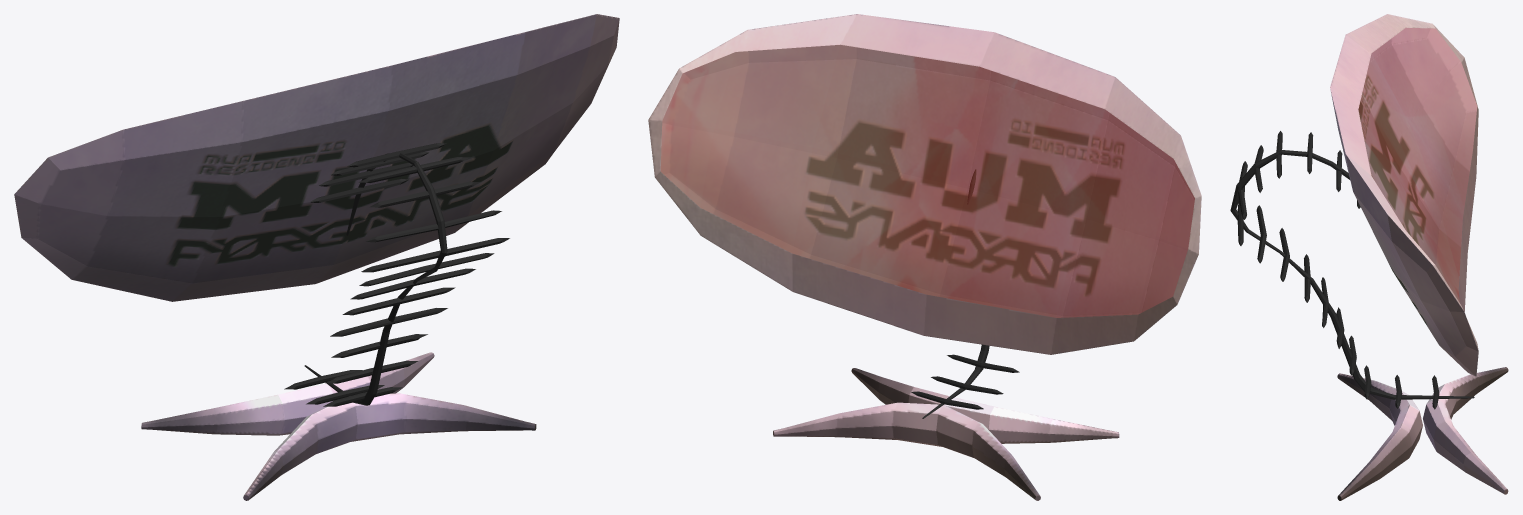
Rendered from ConsoleTable.glb.
3 views of the same model, side by side, from view 1: azimuth 30°, elevation 25°; view 2: azimuth 150°, elevation 25°; view 3: azimuth 270°, elevation 25° (orthographic). The views are drawn at different scales.
Visible parts, largest first — view 1: 平面.001, 立方体.001, Plane.001, 平面.004; view 2: 平面.001, 立方体.001, Plane.001, 平面.004; view 3: 平面.001, 立方体.001, Plane.001, 平面.004.
Boxes of the visible parts, x1=… form: 平面.001: x1=14, y1=14, x2=619, y2=301; 立方体.001: x1=141, y1=352, x2=536, y2=500; Plane.001: x1=284, y1=143, x2=509, y2=406; 平面.004: x1=304, y1=152, x2=447, y2=405; 平面.001: x1=648, y1=14, x2=1201, y2=354; 立方体.001: x1=773, y1=368, x2=1119, y2=500; Plane.001: x1=911, y1=354, x2=1019, y2=409; 平面.004: x1=922, y1=169, x2=989, y2=418; 平面.001: x1=1330, y1=14, x2=1478, y2=376; 立方体.001: x1=1337, y1=367, x2=1508, y2=500; Plane.001: x1=1237, y1=131, x2=1439, y2=409; 平面.004: x1=1230, y1=150, x2=1474, y2=399.
Size of what is drawn, in the model's own units: 2.48 by 1.62 by 1.15.
Materials: 3 (2 with a texture image).
